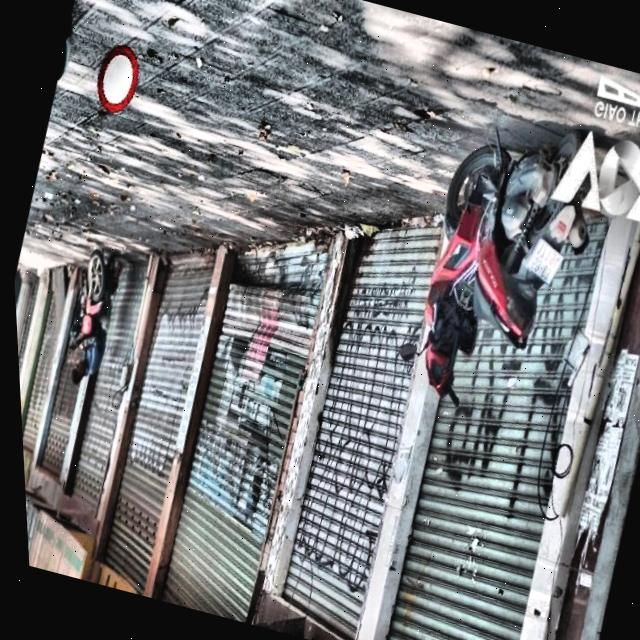Bien_bao_duong_cam: (87, 38, 149, 120)
